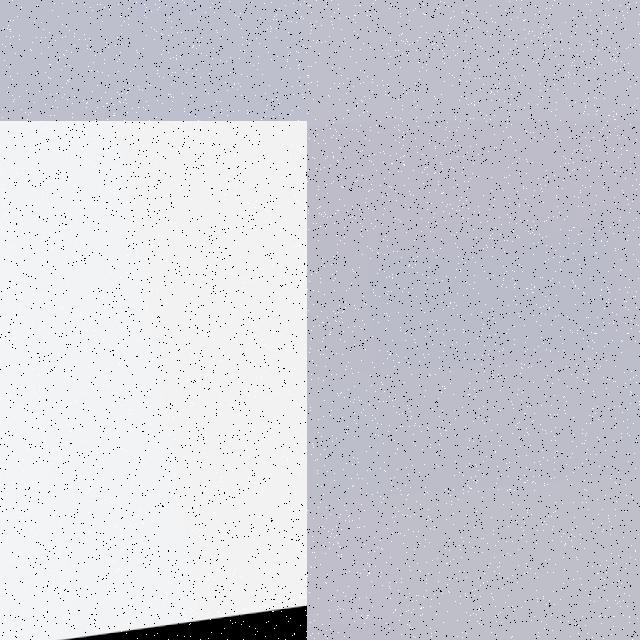0: (0, 0, 307, 121)
drone: (0, 121, 307, 640)
